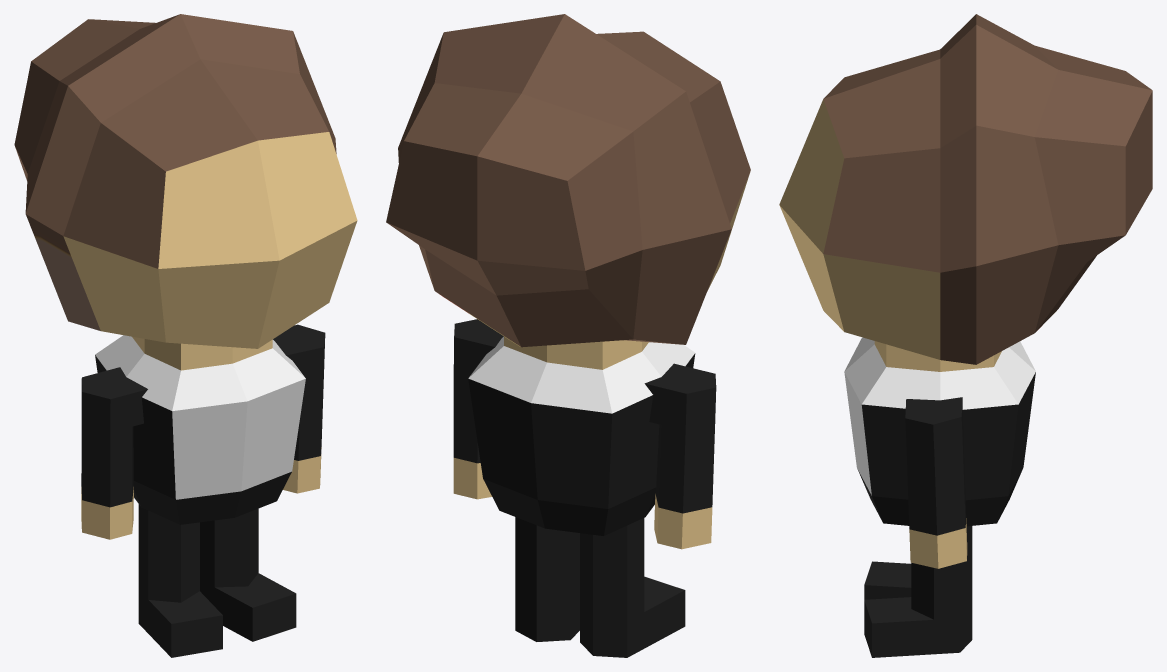
The model's file is MARIE CURIE - objeto único - v01.glb.
3 renders of one model, left to right at view 1: azimuth 30°, elevation 25°; view 2: azimuth 150°, elevation 25°; view 3: azimuth 270°, elevation 25°, orthographic. The views are drawn at different scales.
Visible parts, largest first — view 1: Cube.014; view 2: Cube.014; view 3: Cube.014.
Part boxes in pixels (<box>): Cube.014: <box>14,14,357,657</box>; Cube.014: <box>386,14,750,657</box>; Cube.014: <box>779,14,1152,657</box>.
Bounding box in the file's own units: 0.5849 × 1.07 × 0.6006.
Materials: 1 (1 with a texture image).
